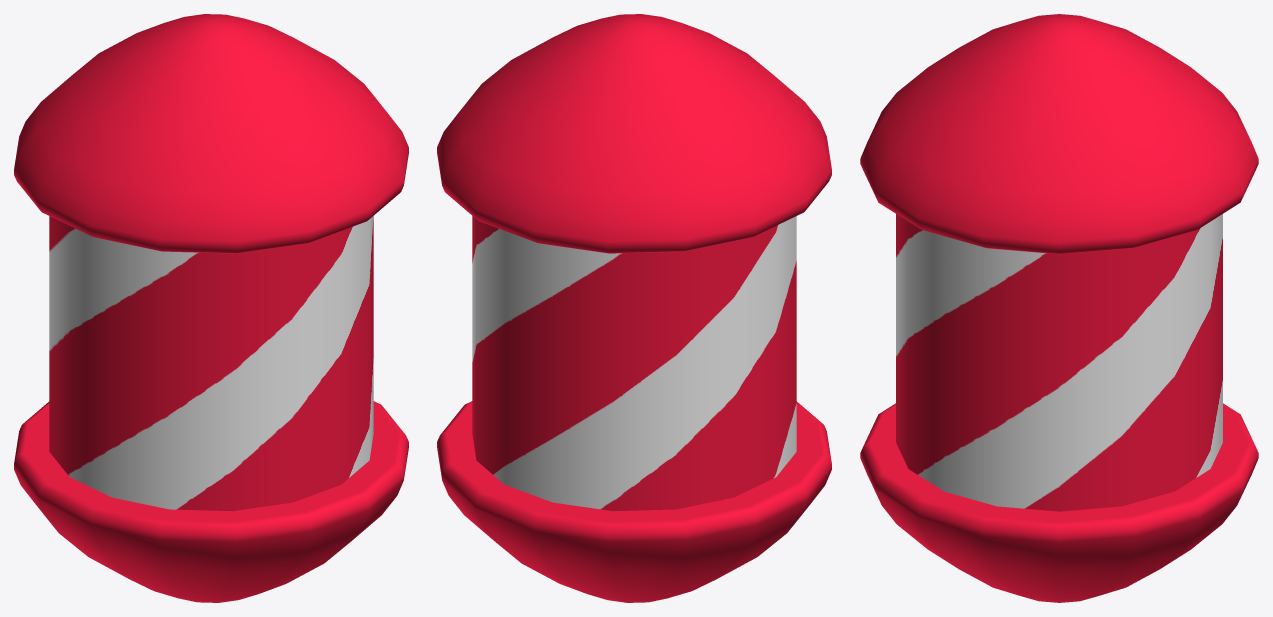
Rendered from rocket-model.fbx.
3 views of the same model, side by side, from view 1: azimuth 30°, elevation 25°; view 2: azimuth 150°, elevation 25°; view 3: azimuth 270°, elevation 25° (orthographic).
Visible parts, largest first — view 1: Rocket_body, Rocket_cap_1, Rocket_cap_2; view 2: Rocket_body, Rocket_cap_1, Rocket_cap_2; view 3: Rocket_body, Rocket_cap_1, Rocket_cap_2.
Part boxes in pixels (left/top/right/bottom): Rocket_body: left=49, top=216, right=373, bottom=511; Rocket_cap_1: left=14, top=14, right=408, bottom=253; Rocket_cap_2: left=14, top=401, right=408, bottom=602; Rocket_body: left=472, top=216, right=796, bottom=511; Rocket_cap_1: left=437, top=14, right=831, bottom=253; Rocket_cap_2: left=437, top=401, right=831, bottom=602; Rocket_body: left=896, top=214, right=1222, bottom=511; Rocket_cap_1: left=860, top=14, right=1258, bottom=254; Rocket_cap_2: left=860, top=403, right=1258, bottom=602.
Size of the model in its own units: 2.63 by 4.17 by 2.63.
